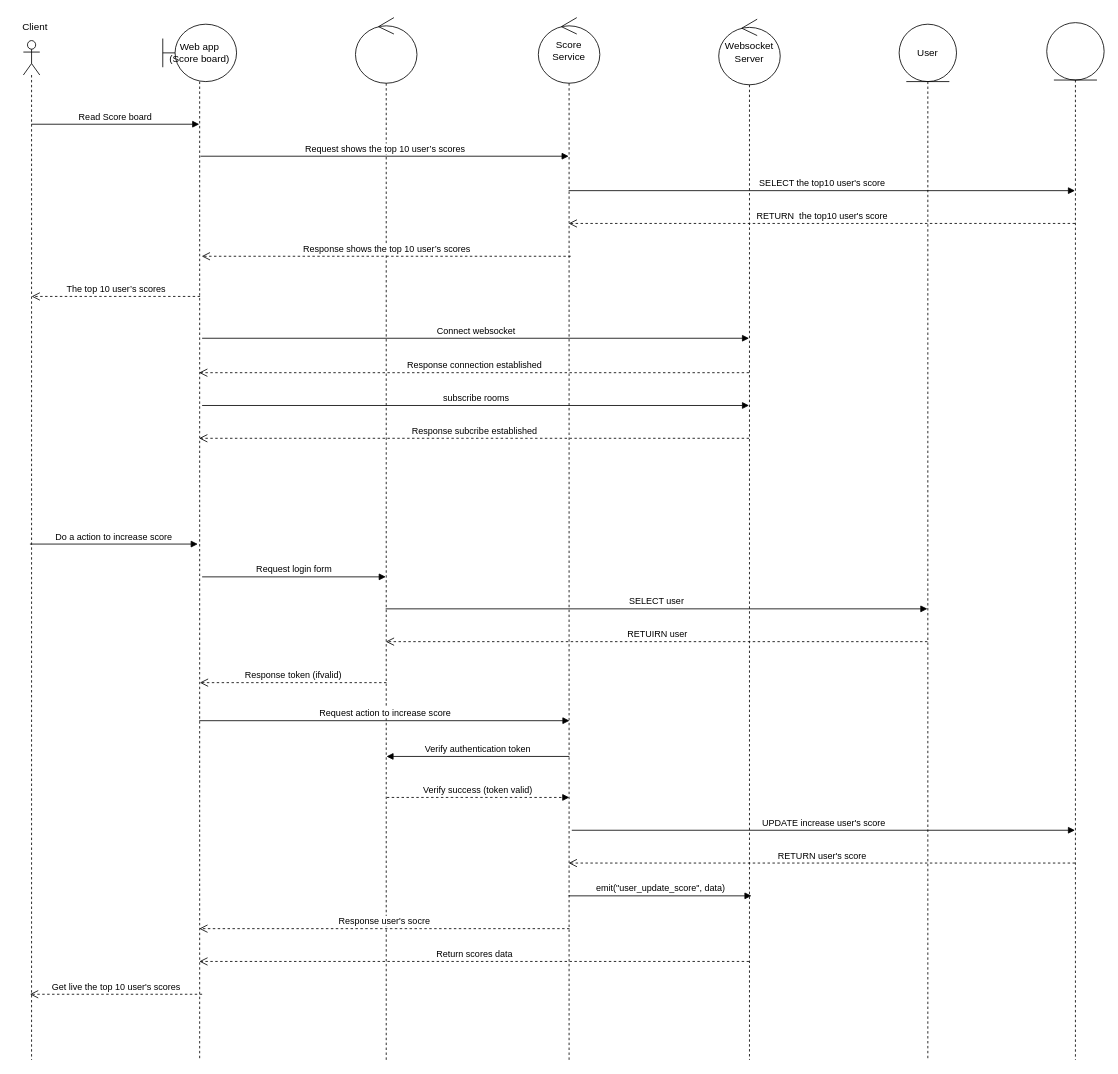
This 1118x1074 diagram has some shape labels left out. The shapes that lost their labels are listed below. From the top down, each one's box as (x1, y1, x2, y2) in pixels, then its label:
(355, 17, 417, 1060): Auth Service
(1046, 22, 1104, 1060): Score
